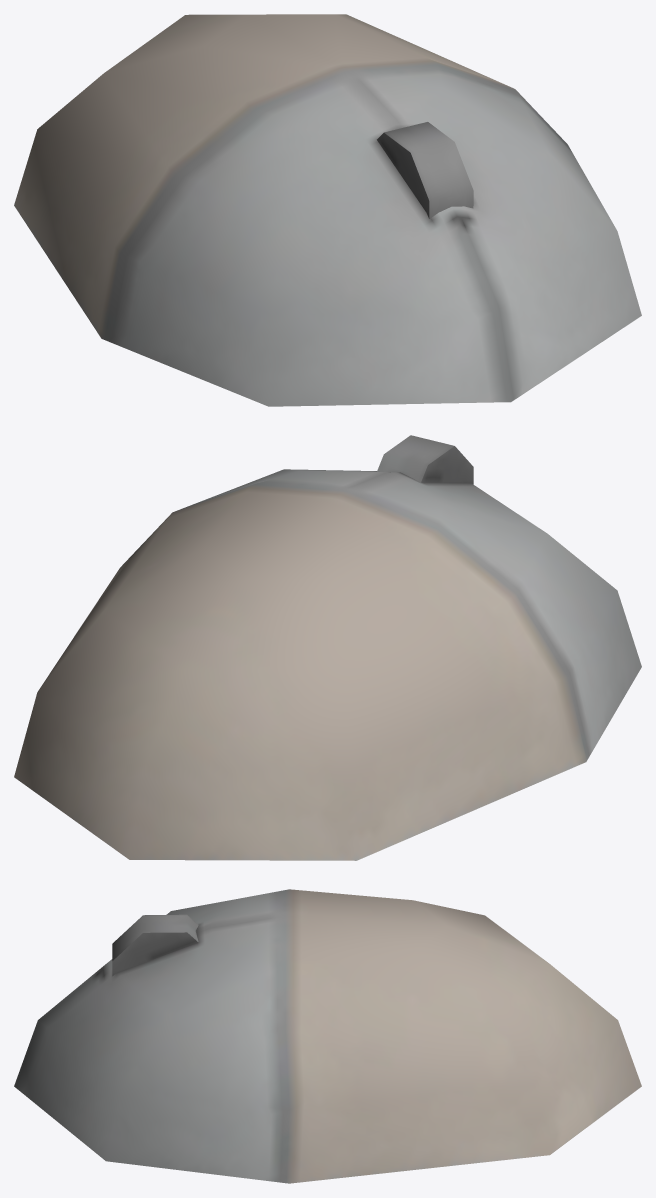
File: Pfb_Computer__17.fbx
The picture shows the model from 3 angles, top to bottom: view 1: azimuth 30°, elevation 25°; view 2: azimuth 150°, elevation 25°; view 3: azimuth 270°, elevation 25°; orthographic projection. The views are drawn at different scales.
Visible parts, largest first — view 1: Mat_Computer_01_02_2; view 2: Mat_Computer_01_02_2; view 3: Mat_Computer_01_02_2.
Boxes of the visible parts, x1,y1,x2,y2 form: Mat_Computer_01_02_2: (14, 14, 641, 406); Mat_Computer_01_02_2: (14, 435, 641, 860); Mat_Computer_01_02_2: (14, 889, 641, 1183).
Bounding box in the file's own units: 0.1694 × 0.0703 × 0.2311.
Materials: 1 (1 with a texture image).
